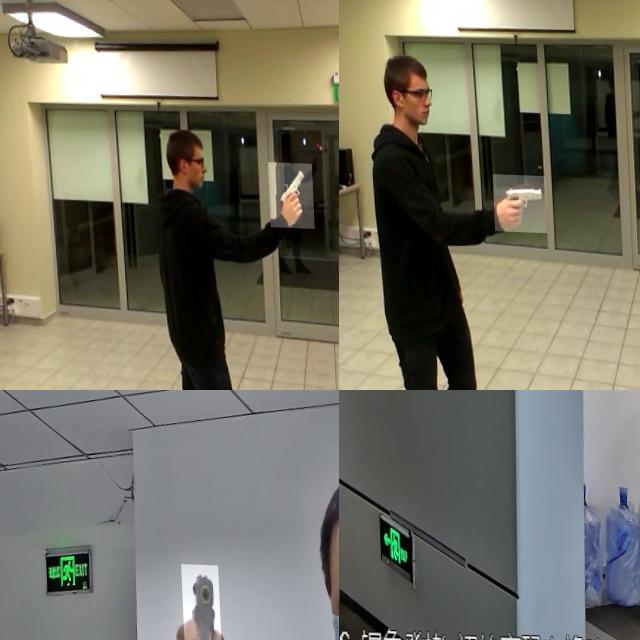gun-knife-thesis - v11 Yolov5 augmented: (177, 561, 220, 640), (489, 172, 544, 231), (266, 159, 312, 226)
